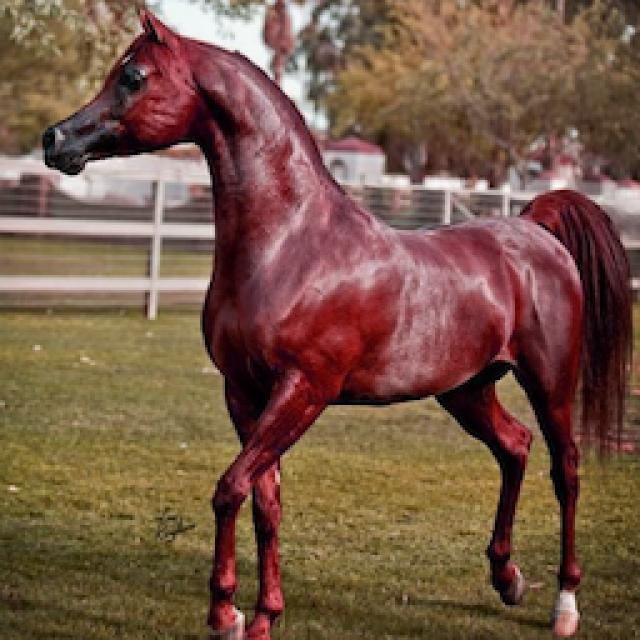Horse: (35, 5, 638, 638)
